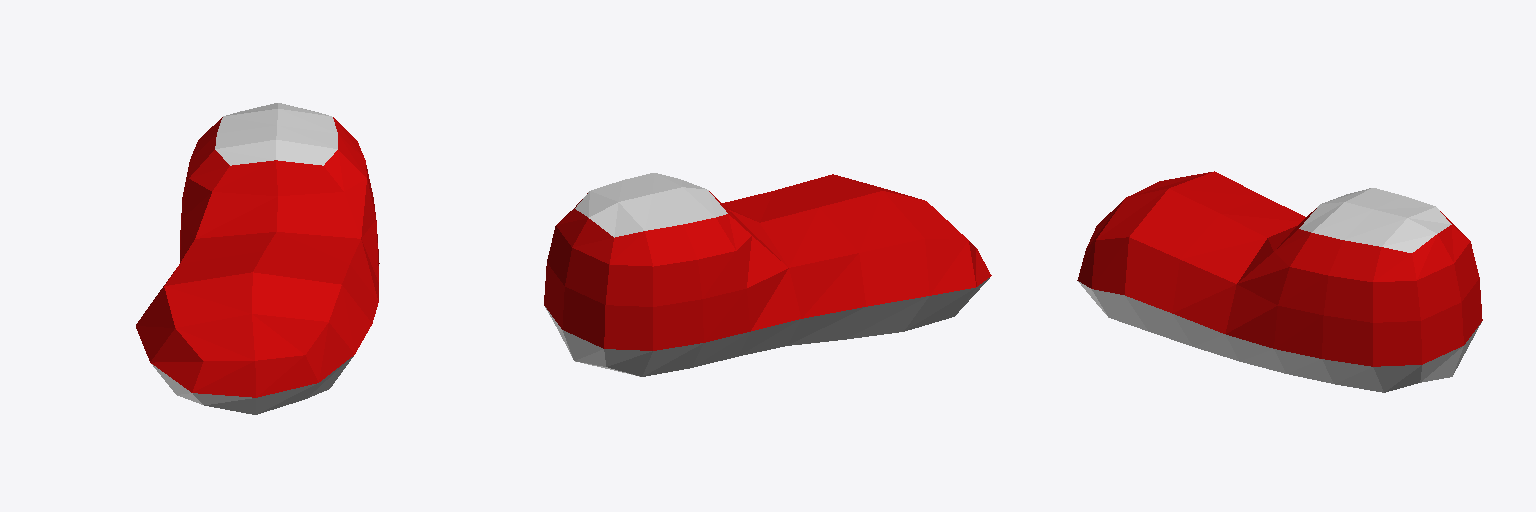
Rendered from player_r_foot.obj.
3 renders of one model, left to right at view 1: azimuth 30°, elevation 25°; view 2: azimuth 150°, elevation 25°; view 3: azimuth 270°, elevation 25°, orthographic.
Parts seen in each view (by area): view 1: Object005, Box001; view 2: Object005, Box001; view 3: Object005, Box001.
Boxes of the visible parts, <box> form: Object005: <box>136,117,379,397</box>; Box001: <box>152,103,353,414</box>; Object005: <box>544,174,991,350</box>; Box001: <box>545,173,989,376</box>; Object005: <box>1077,171,1482,366</box>; Box001: <box>1078,188,1481,392</box>.
Size of the model in its own units: 9.15 by 4.44 by 10.22.